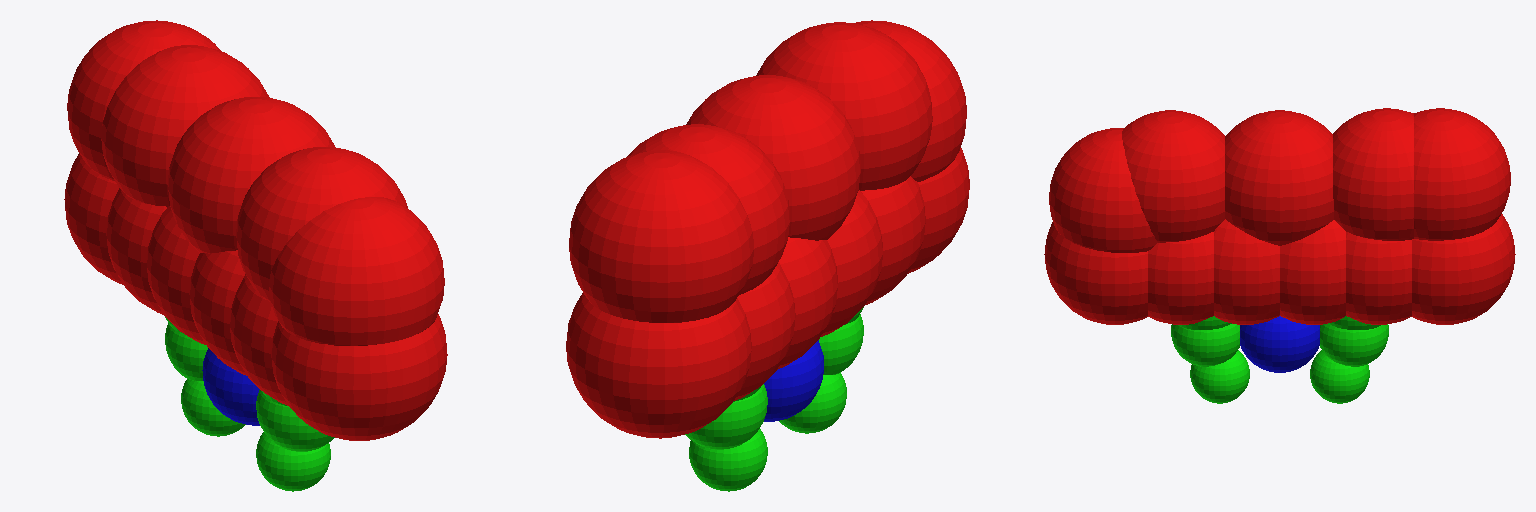
The robot description file, URDF, robot "ff_pxyz_rz":
<?xml version="1.0" encoding="utf-8"?>
<!-- =================================================================================== -->
<!-- |    This document was autogenerated by xacro from hand_fingers_fixed_prismatic_xyz_revolute_z.urdf.xacro | -->
<!-- |    EDITING THIS FILE BY HAND IS NOT RECOMMENDED                                 | -->
<!-- =================================================================================== -->
<robot name="ff_pxyz_rz">
  <material name="redtran">
    <color rgba=".9 .1 .1 0.3"/>
  </material>
  <material name="greentran">
    <color rgba=".1 .9 .1 0.3"/>
  </material>
  <material name="bluetran">
    <color rgba=".1 .1 .9 0.3"/>
  </material>
  <link name="pxyz_rz_base_link"/>
  <link name="pxyz_rz_prismatic_x_link"/>
  <link name="pxyz_rz_prismatic_y_link"/>
  <link name="pxyz_rz_prismatic_z_link"/>
  <link name="pxyz_rz_revolute_z_link"/>
  <joint name="pxyz_rz_prismatic_x_joint" type="prismatic">
    <parent link="pxyz_rz_base_link"/>
    <child link="pxyz_rz_prismatic_x_link"/>
    <origin rpy="0 0 0" xyz="0 0 0"/>
    <axis xyz="1 0 0"/>
  </joint>
  <joint name="pxyz_rz_prismatic_y_joint" type="prismatic">
    <parent link="pxyz_rz_prismatic_x_link"/>
    <child link="pxyz_rz_prismatic_y_link"/>
    <origin rpy="0 0 0" xyz="0 0 0"/>
    <axis xyz="0 1 0"/>
  </joint>
  <joint name="pxyz_rz_prismatic_z_joint" type="prismatic">
    <parent link="pxyz_rz_prismatic_y_link"/>
    <child link="pxyz_rz_prismatic_z_link"/>
    <origin rpy="0 0 0" xyz="0 0 0"/>
    <axis xyz="0 0 1"/>
  </joint>
  <joint name="pxyz_rz_revolute_z_joint" type="revolute">
    <parent link="pxyz_rz_prismatic_z_link"/>
    <child link="pxyz_rz_revolute_z_link"/>
    <origin rpy="0 0 0" xyz="0 0 0"/>
    <axis xyz="0 0 -1"/>
  </joint>
  <joint name="panda_hand_joint" type="fixed">
    <parent link="pxyz_rz_revolute_z_link"/>
    <child link="panda_hand"/>
    <origin rpy="3.14159265359 0 0" xyz="0 0 0"/>
  </joint>
  <link name="panda_hand">
    <visual>
      <geometry>
        <mesh filename="package://franka_description/meshes/visual/hand.dae"/>
      </geometry>
    </visual>
    <visual>
      <origin xyz="0 -.077 .041"/>
      <geometry>
        <sphere radius="0.033"/>
      </geometry>
      <material name="redtran"/>
    </visual>
    <visual>
      <origin xyz="0 .075 .012"/>
      <geometry>
        <sphere radius="0.033"/>
      </geometry>
      <material name="redtran"/>
    </visual>
    <visual>
      <origin xyz="0 .077 .041"/>
      <geometry>
        <sphere radius="0.033"/>
      </geometry>
      <material name="redtran"/>
    </visual>
    <visual>
      <origin xyz="0 -.05 .002"/>
      <geometry>
        <sphere radius="0.033"/>
      </geometry>
      <material name="redtran"/>
    </visual>
    <visual>
      <origin xyz="0 -.046 .041"/>
      <geometry>
        <sphere radius="0.033"/>
      </geometry>
      <material name="redtran"/>
    </visual>
    <visual>
      <origin xyz="0 .046 .041"/>
      <geometry>
        <sphere radius="0.033"/>
      </geometry>
      <material name="redtran"/>
    </visual>
    <visual>
      <origin xyz="0 .016 .041"/>
      <geometry>
        <sphere radius="0.033"/>
      </geometry>
      <material name="redtran"/>
    </visual>
    <visual>
      <origin xyz="0 -.016 .041"/>
      <geometry>
        <sphere radius="0.033"/>
      </geometry>
      <material name="redtran"/>
    </visual>
    <visual>
      <origin xyz="0 -.075 .002"/>
      <geometry>
        <sphere radius="0.033"/>
      </geometry>
      <material name="redtran"/>
    </visual>
    <visual>
      <origin xyz="0 .051 .003"/>
      <geometry>
        <sphere radius="0.033"/>
      </geometry>
      <material name="redtran"/>
    </visual>
    <visual>
      <origin xyz="0 0 .003"/>
      <geometry>
        <sphere radius="0.033"/>
      </geometry>
      <material name="redtran"/>
    </visual>
  </link>
  <link name="panda_leftfinger">
    <visual>
      <geometry>
        <mesh filename="package://franka_description/meshes/visual/finger.dae"/>
      </geometry>
    </visual>
    <visual>
      <origin xyz="0 .014 .022"/>
      <geometry>
        <sphere radius="0.017"/>
      </geometry>
      <material name="greentran"/>
    </visual>
    <visual>
      <origin xyz="0 .015 .005"/>
      <geometry>
        <sphere radius="0.018"/>
      </geometry>
      <material name="greentran"/>
    </visual>
    <visual>
      <origin xyz="0 .008 .044"/>
      <geometry>
        <sphere radius="0.014"/>
      </geometry>
      <material name="greentran"/>
    </visual>
  </link>
  <link name="panda_rightfinger">
    <visual>
      <origin rpy="0 0 3.14159265359" xyz="0 0 0"/>
      <geometry>
        <mesh filename="package://franka_description/meshes/visual/finger.dae"/>
      </geometry>
    </visual>
    <visual>
      <origin xyz="0 -.014 .022"/>
      <geometry>
        <sphere radius="0.017"/>
      </geometry>
      <material name="greentran"/>
    </visual>
    <visual>
      <origin xyz="0 -.015 .005"/>
      <geometry>
        <sphere radius="0.018"/>
      </geometry>
      <material name="greentran"/>
    </visual>
    <visual>
      <origin xyz="0 -.008 .044"/>
      <geometry>
        <sphere radius="0.014"/>
      </geometry>
      <material name="greentran"/>
    </visual>
  </link>
  <link name="panda_hand_center">
    <visual>
      <origin xyz="0 0 0"/>
      <geometry>
        <sphere radius="0.02"/>
      </geometry>
      <material name="bluetran"/>
    </visual>
  </link>
  <joint name="panda_finger_joint1" type="fixed">
    <parent link="panda_hand"/>
    <child link="panda_leftfinger"/>
    <origin rpy="0 0 0" xyz="0 0.02 0.0584"/>
  </joint>
  <joint name="panda_finger_joint2" type="fixed">
    <parent link="panda_hand"/>
    <child link="panda_rightfinger"/>
    <origin rpy="0 0 0" xyz="0 -0.02 0.0584"/>
    <mimic joint="panda_finger_joint1"/>
  </joint>
  <joint name="panda_hand_center_joint" type="fixed">
    <parent link="panda_hand"/>
    <child link="panda_hand_center"/>
    <origin rpy="0 0 0" xyz="0 0 0.08"/>
  </joint>
</robot>

--- Facts derived from the render (not from the file) ---
The picture shows the robot from 3 angles, left to right: view 1: azimuth 30°, elevation 25°; view 2: azimuth 150°, elevation 25°; view 3: azimuth 270°, elevation 25°; orthographic projection.
Model ff_pxyz_rz with 9 links and 8 joints (1 revolute, 3 prismatic, 4 fixed), rooted at pxyz_rz_base_link, posed every joint at zero.
Visible links, largest first — view 1: panda_hand, panda_leftfinger, panda_rightfinger, panda_hand_center; view 2: panda_hand, panda_rightfinger, panda_leftfinger, panda_hand_center; view 3: panda_hand, panda_leftfinger, panda_rightfinger, panda_hand_center.
Boxes of the visible links, box(x1,y1,x2,y2) form: panda_hand: box(64, 20, 447, 440); panda_leftfinger: box(256, 390, 334, 491); panda_rightfinger: box(165, 317, 245, 436); panda_hand_center: box(202, 348, 259, 425); panda_hand: box(566, 20, 969, 438); panda_rightfinger: box(685, 384, 767, 491); panda_leftfinger: box(779, 307, 863, 433); panda_hand_center: box(764, 340, 823, 421); panda_hand: box(1044, 108, 1515, 324); panda_leftfinger: box(1171, 316, 1249, 403); panda_rightfinger: box(1310, 316, 1388, 403); panda_hand_center: box(1240, 316, 1319, 372).
Size in the robot's own frame: 0.066 by 0.22 by 0.1474 metres.
0 mesh visuals loaded from 2 distinct referenced files (none loaded); not drawn: 3 (reference not matched to a file when rendering).
